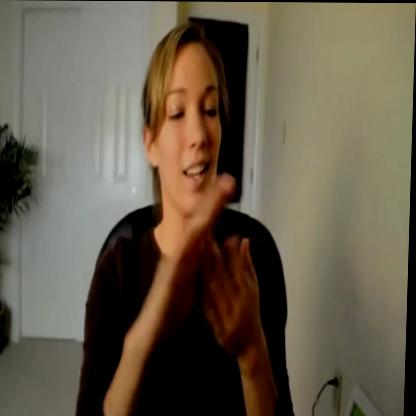NiceToMeetYou: (140, 161, 288, 371)
